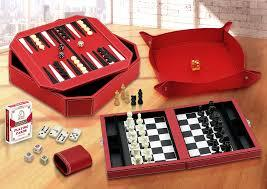board game: (101, 98, 261, 178), (17, 15, 133, 80)
